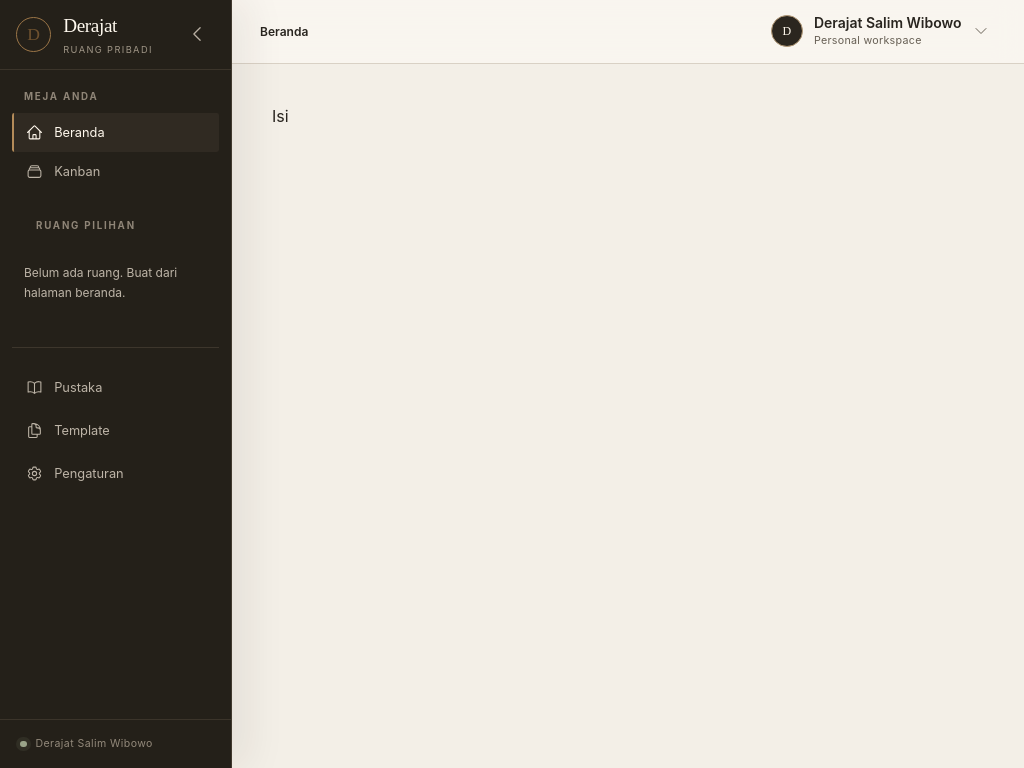
it: AppShell accessibility › labels and dismisses the account menu outside its container
This screenshot has width=1024, height=768.
Click the button with aria-label "Menu akun" at (880,32), box [764,8,996,55]
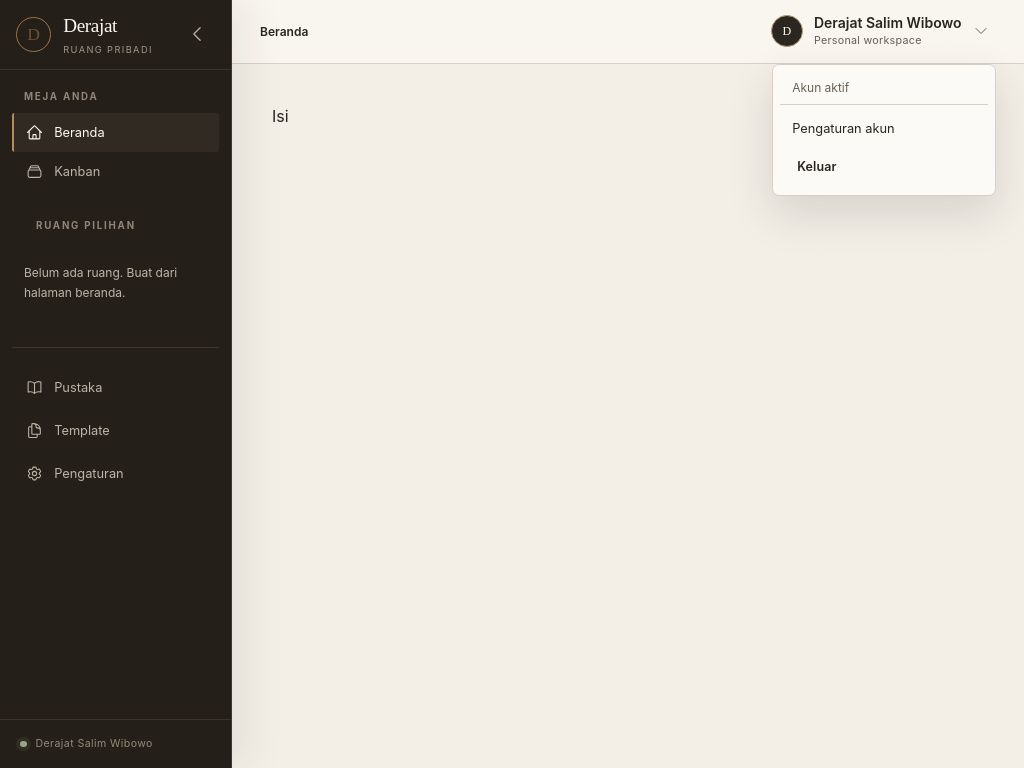
Expected: the element with id "account-menu" is shown, [772,64,996,196]
Press the mouse on the element that starts with "Lewati ke konten utama" at (512,384), box [0,0,1023,767]
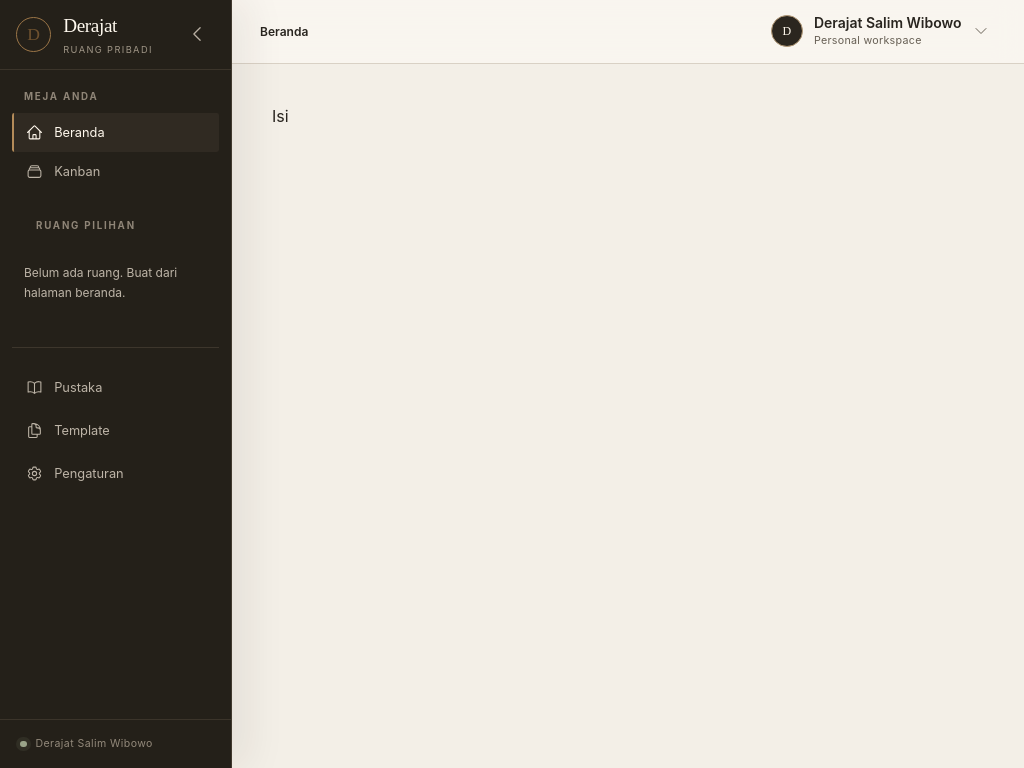
Expected: the element with id "account-menu" is gone
